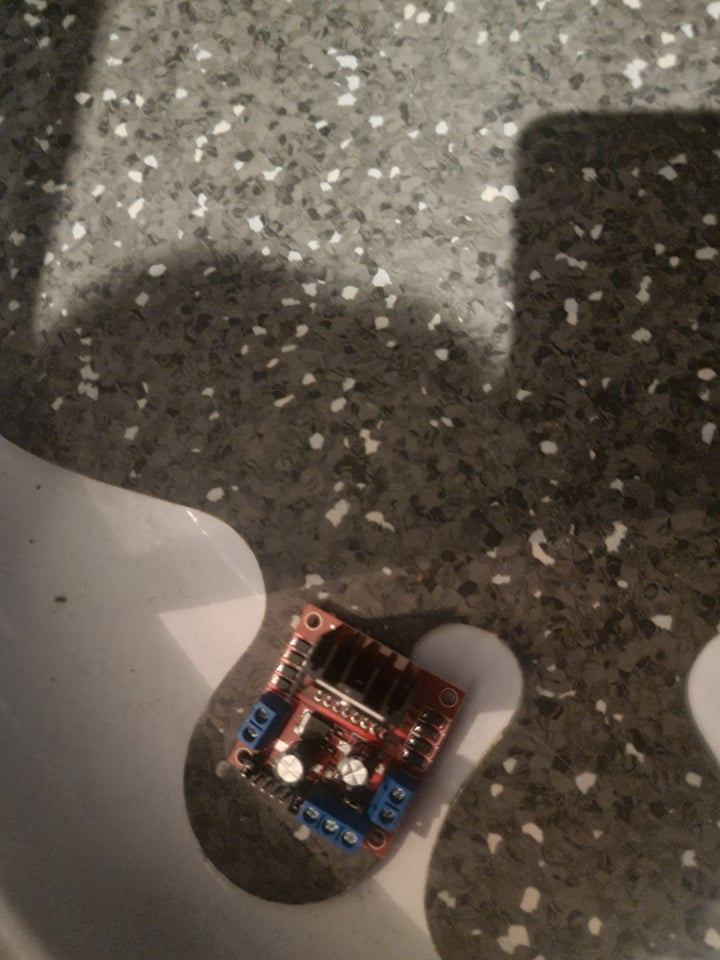MOTOR: (229, 602, 468, 864)
